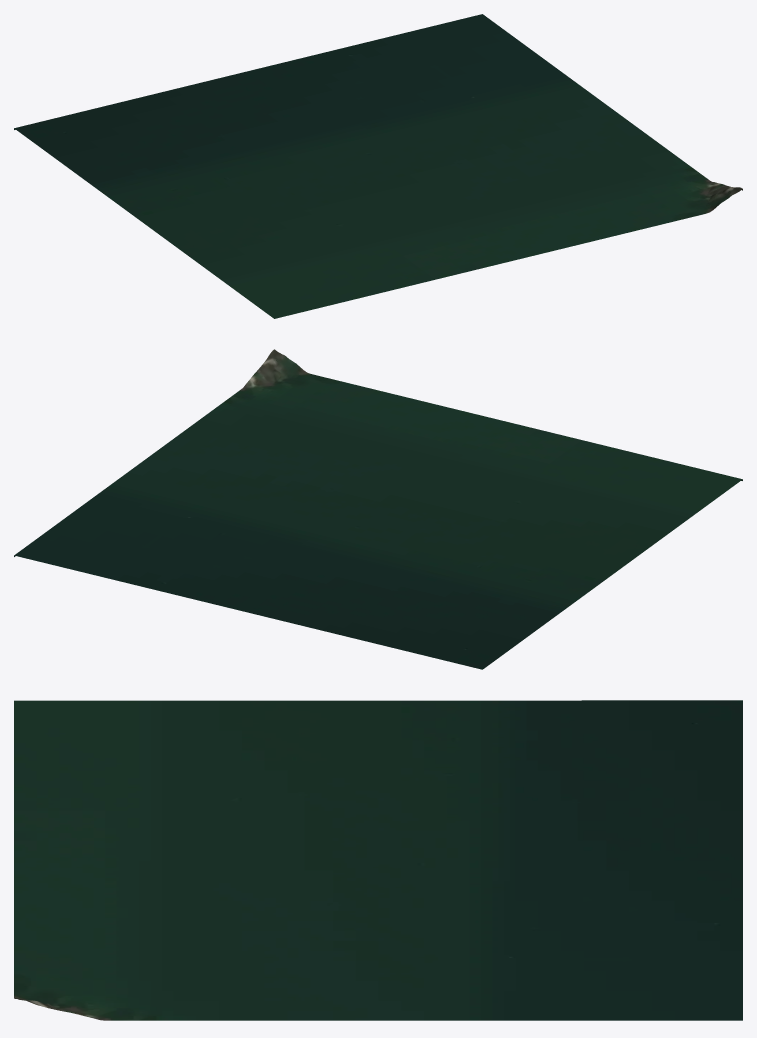
3 renders of one model, top to bottom at view 1: azimuth 30°, elevation 25°; view 2: azimuth 150°, elevation 25°; view 3: azimuth 270°, elevation 25°, orthographic. The views are drawn at different scales.
Bounding box in the file's own units: 250 × 9.07 × 241.
1 material, 1 textured.
